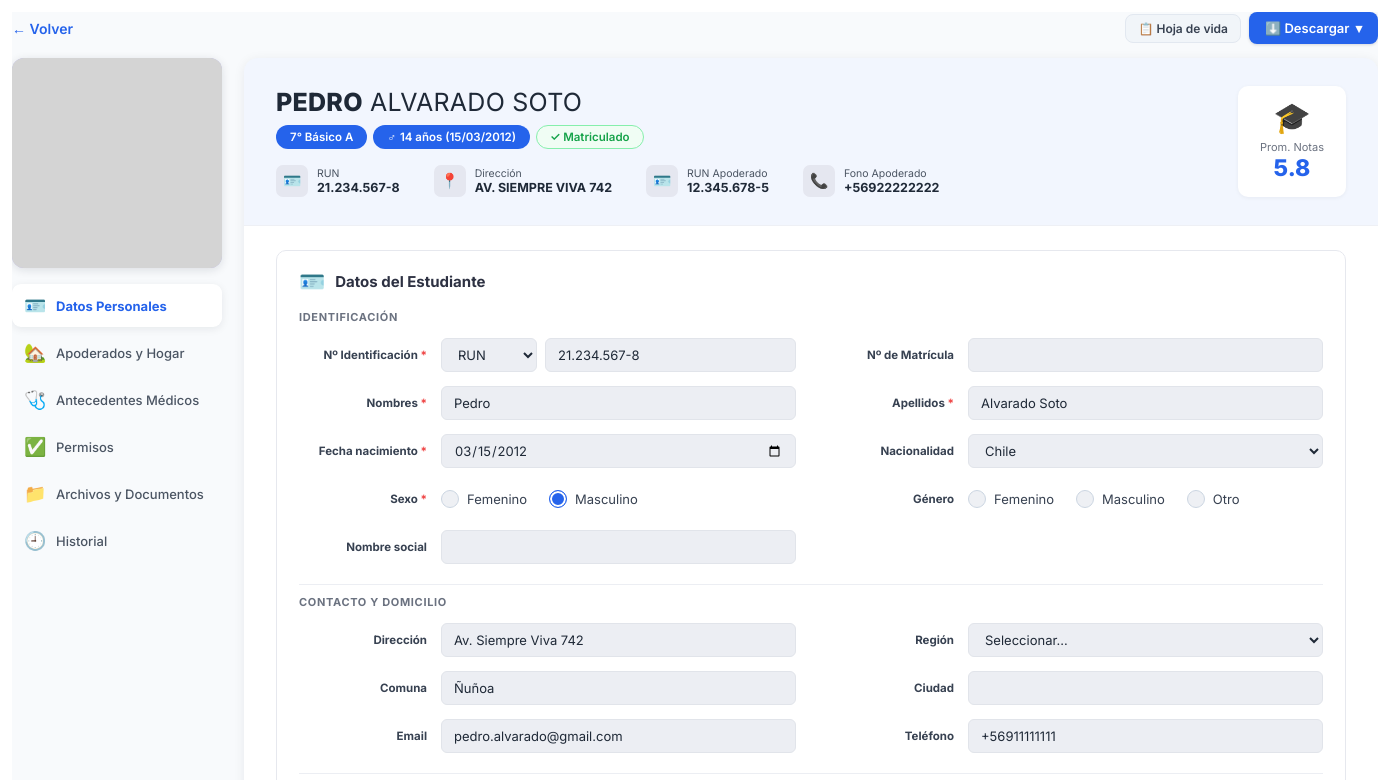
Test case: navegar a "Antecedentes Médicos" muestra su título
Expected: the heading "Pedro Alvarado Soto" is shown, [276, 87, 582, 117]
Click the button "🩺 Antecedentes Médicos": point(117, 400) [12, 378, 222, 421]
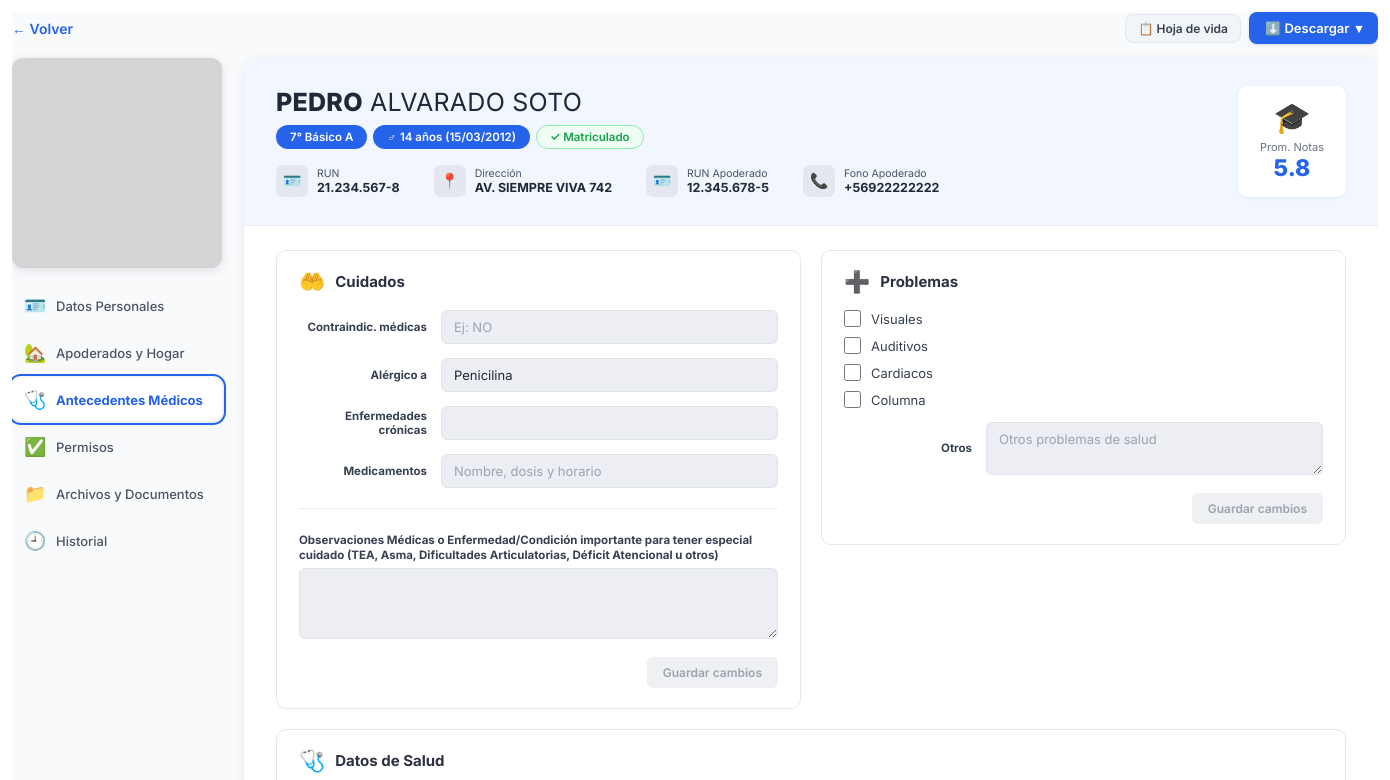
Now the heading "🩺 Datos de Salud" is shown, box [299, 750, 445, 771]
